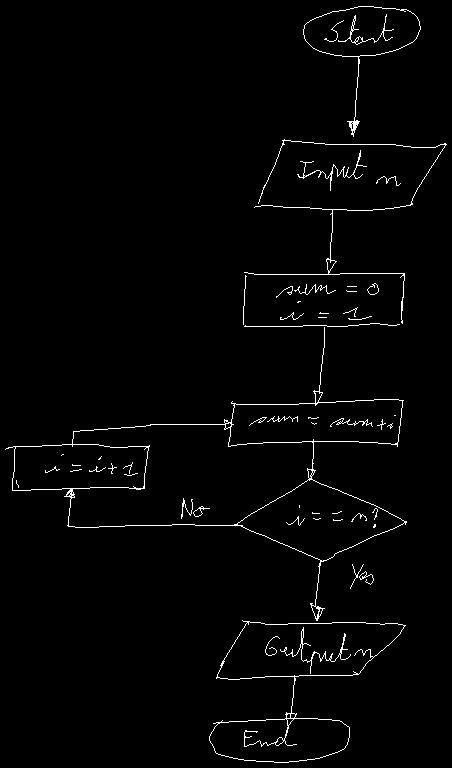arrow: (64, 488, 242, 527), (72, 419, 233, 446), (347, 56, 359, 136), (313, 327, 324, 405), (310, 561, 324, 620), (326, 209, 336, 274), (285, 675, 296, 726), (307, 439, 315, 480)
data: (254, 139, 446, 210), (216, 620, 405, 679)
decision: (232, 478, 406, 561)
process: (243, 272, 404, 326), (228, 399, 403, 446), (5, 444, 149, 490)
terminator: (209, 718, 349, 762), (303, 6, 420, 56)
text: (265, 627, 372, 673), (297, 150, 400, 190), (276, 283, 378, 319), (324, 14, 393, 44), (249, 415, 395, 429), (286, 505, 377, 527), (45, 454, 137, 475), (244, 726, 296, 746), (181, 498, 209, 518), (350, 564, 373, 588)
